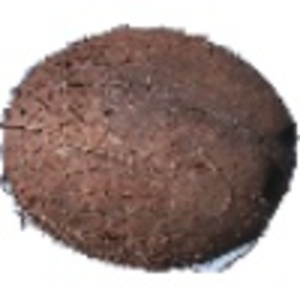coco: (1, 26, 300, 274)
